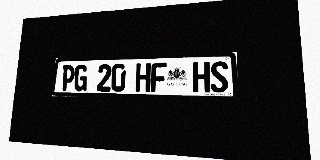0: (111, 64, 126, 92)
2: (97, 64, 112, 91)
F: (151, 63, 167, 92)
G: (73, 65, 88, 91)
H: (193, 62, 210, 92), (135, 63, 151, 92)
P: (61, 65, 75, 91)
S: (210, 61, 229, 93)
